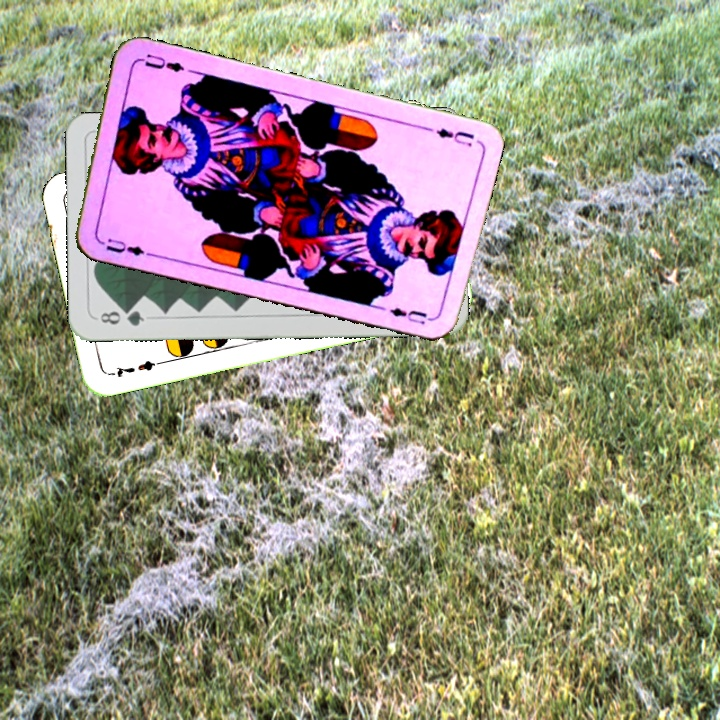E7: (106, 356, 165, 380)
EU: (101, 234, 152, 259), (431, 124, 477, 149)
G8: (96, 305, 147, 329)
